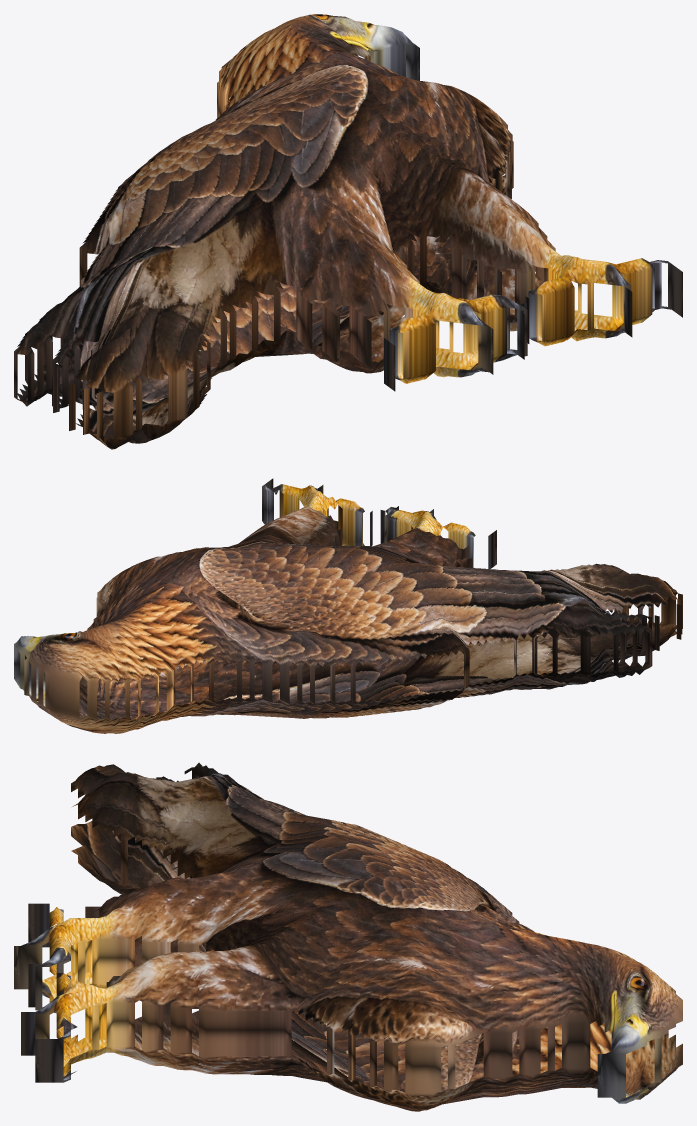
Rendered from eagle.glb.
The picture shows the model from 3 angles, top to bottom: view 1: azimuth 30°, elevation 25°; view 2: azimuth 150°, elevation 25°; view 3: azimuth 270°, elevation 25°; orthographic projection. The views are drawn at different scales.
Parts seen in each view (by area): view 1: eagle_obj; view 2: eagle_obj; view 3: eagle_obj.
Part boxes in pixels (<box>): eagle_obj: <box>14,14,682,449</box>; eagle_obj: <box>14,478,682,733</box>; eagle_obj: <box>14,762,682,1111</box>.
Bounding box in the file's own units: 1.27 × 0.44 × 1.25.
1 material, 1 textured.
